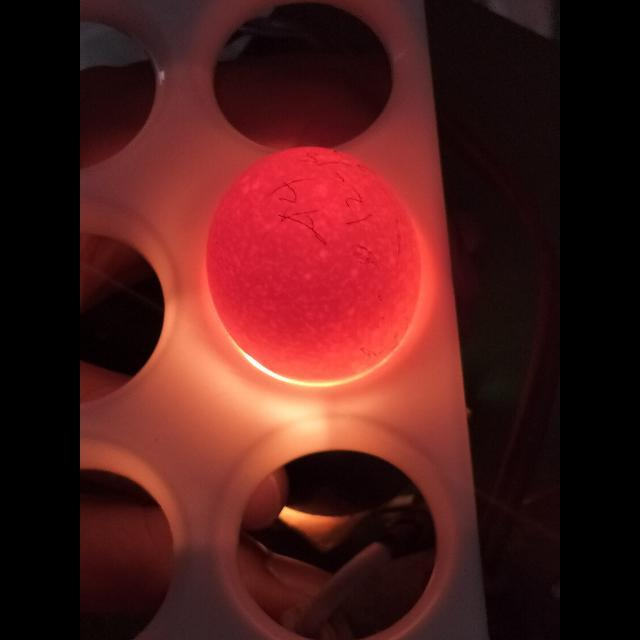Infertile: (208, 146, 426, 374)
